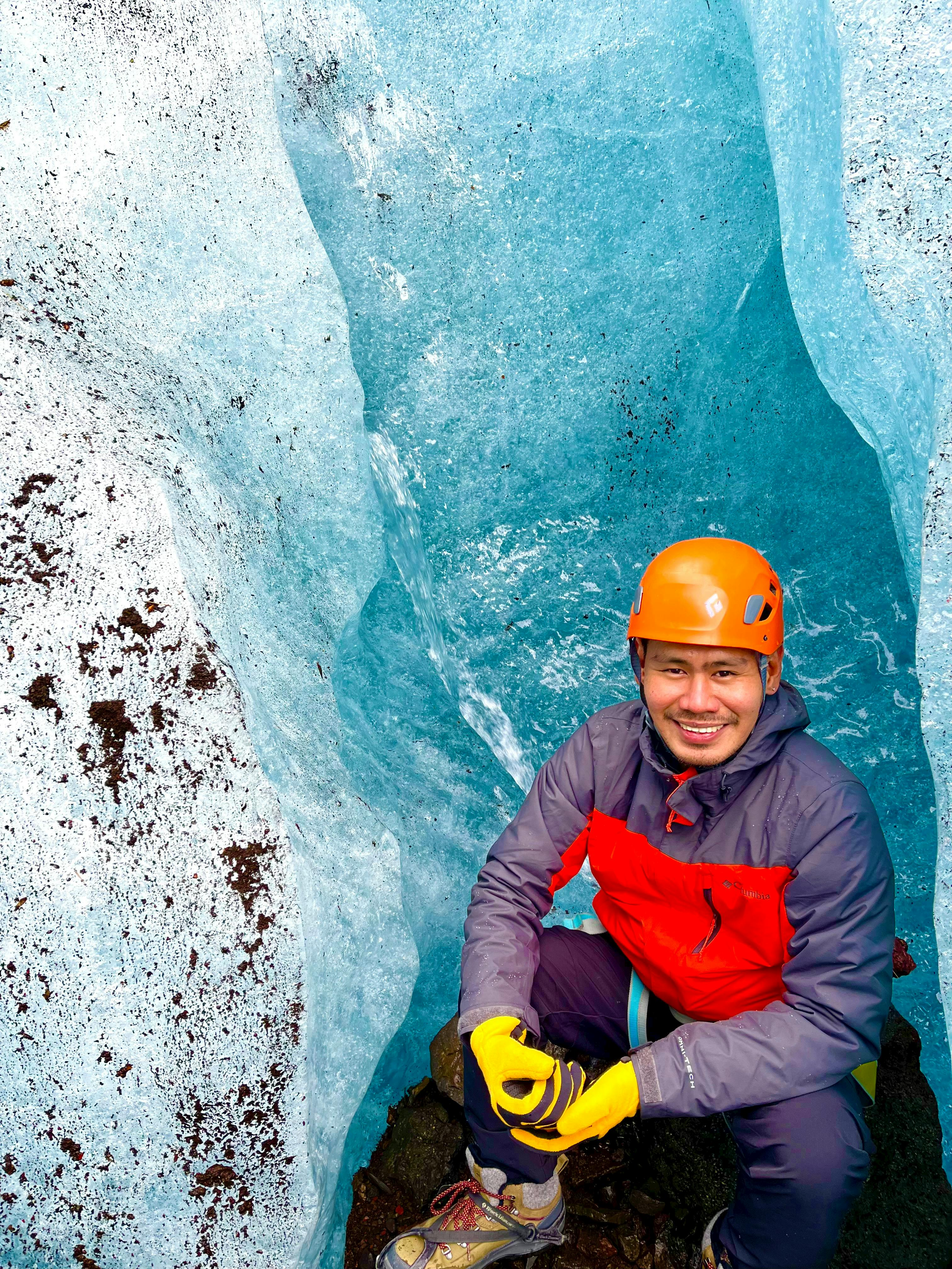gloves: (510, 1048, 655, 1158), (438, 1010, 571, 1109)
